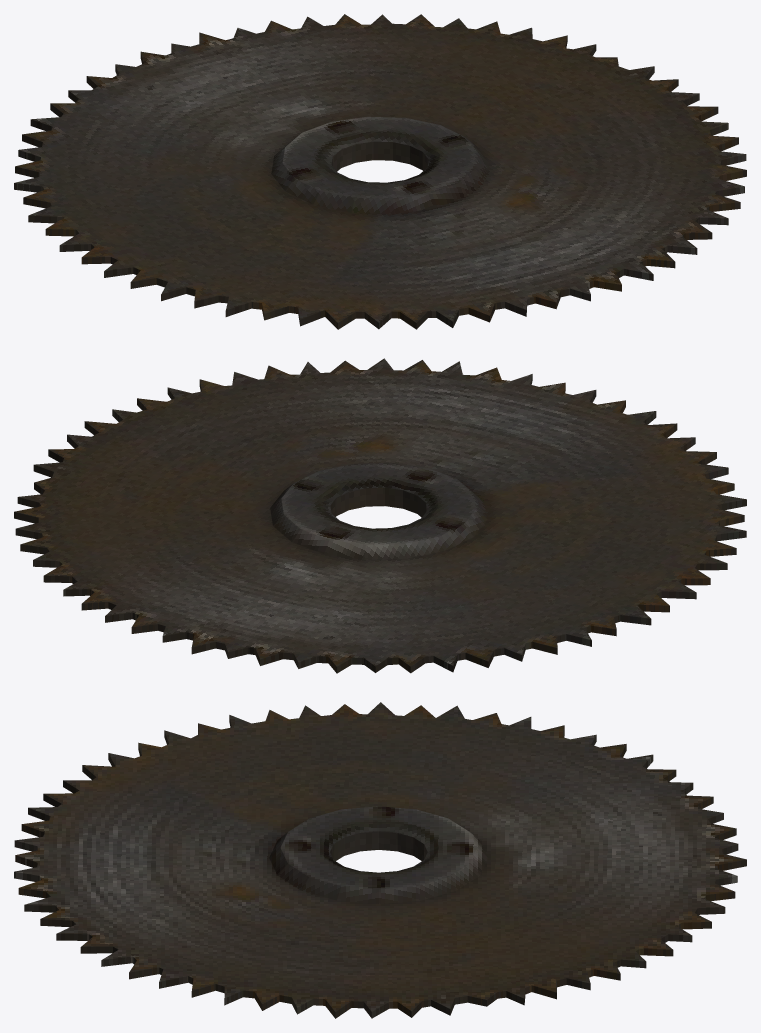
Rendered from saw_blade_1.glb.
The picture shows the model from 3 angles, top to bottom: view 1: azimuth 30°, elevation 25°; view 2: azimuth 150°, elevation 25°; view 3: azimuth 270°, elevation 25°; orthographic projection.
Visible parts, largest first — view 1: saw_blade_1; view 2: saw_blade_1; view 3: saw_blade_1.
Boxes of the visible parts, x1,y1,x2,y2 form: saw_blade_1: (14,14,746,329); saw_blade_1: (14,358,746,673); saw_blade_1: (14,702,746,1018).
Bounding box in the file's own units: 0.5934 × 0.024 × 0.5927.
Materials: 1 (1 with a texture image).
